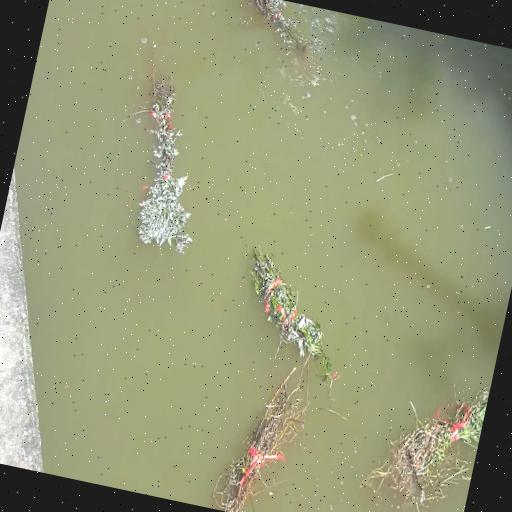twig: (110, 53, 228, 255), (350, 350, 493, 512), (207, 322, 324, 512), (228, 244, 356, 372), (239, 0, 320, 55)
